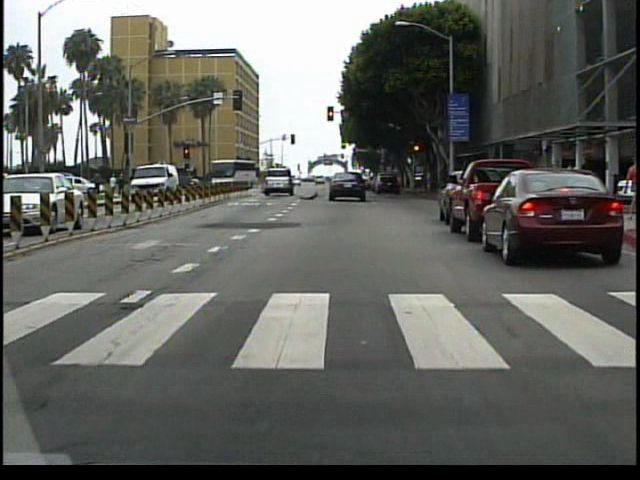person: (619, 157, 638, 220), (114, 174, 129, 205), (92, 171, 105, 201), (108, 172, 121, 200)
